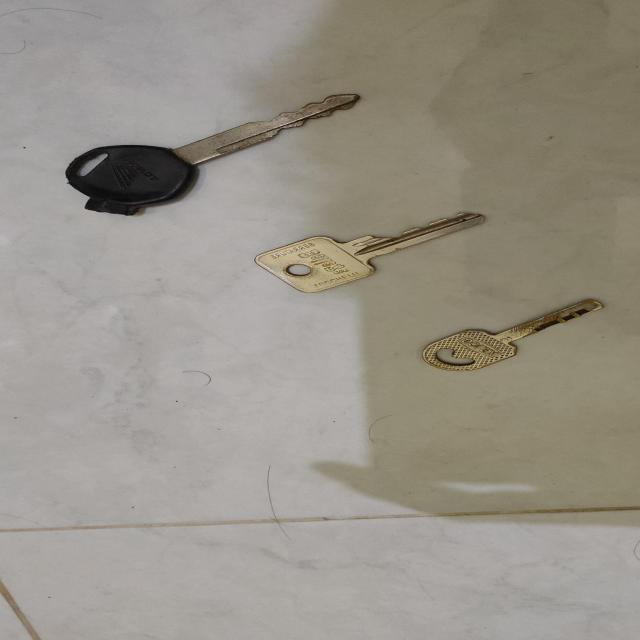kunci_kos: (250, 202, 489, 297)
kunci_motor: (41, 82, 368, 217)
kunci_pagar: (421, 286, 615, 376)
